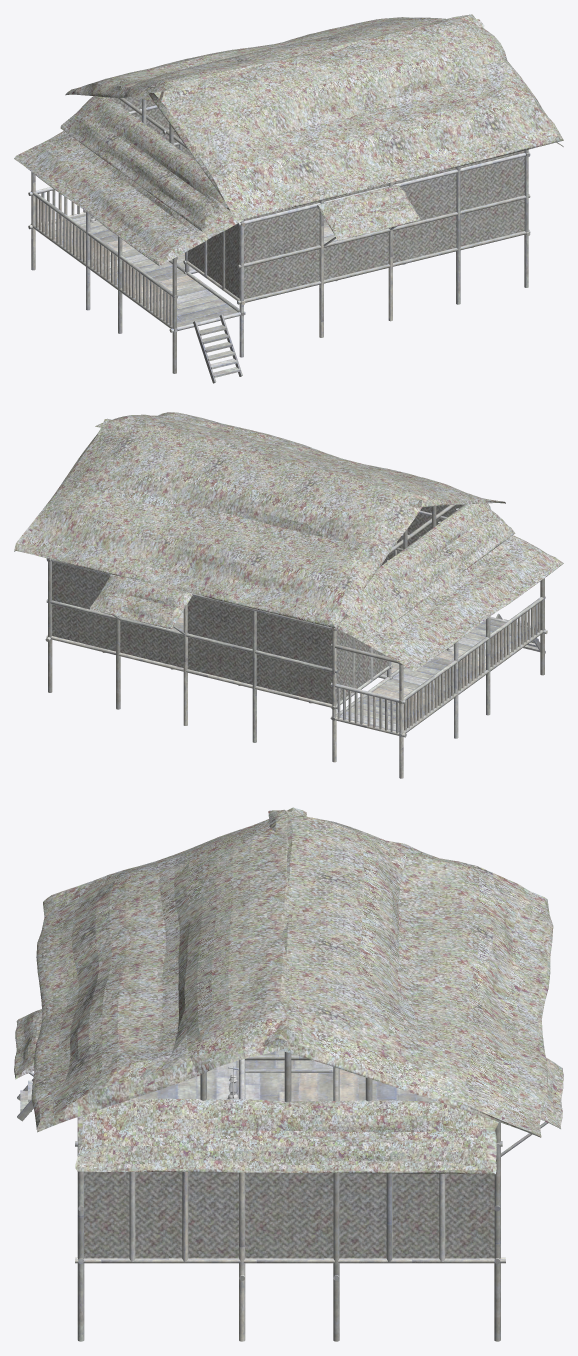
The picture shows the model from 3 angles, top to bottom: view 1: azimuth 30°, elevation 25°; view 2: azimuth 150°, elevation 25°; view 3: azimuth 270°, elevation 25°; orthographic projection. The views are drawn at different scales.
Parts seen in each view (by area): view 1: Meshpart6, Meshpart3, Meshpart2, Part82, Part81, Meshpart4, Part90, Part99, Part98, Meshpart7, Part2, Part1 (+21 smaller); view 2: Meshpart4, Meshpart3, Meshpart2, Part110, Part105, Meshpart6, Part16, Part15, Part90, Meshpart1, Part167, Part166 (+20 smaller); view 3: Meshpart4, Meshpart6, Part68, Part67, Meshpart5, Union3, Part95, Part39, Part152, Part151, Meshpart7, Part52 (+5 smaller).
Boxes of the visible parts, x1,y1,x2,y2 form: Meshpart6: [148, 14, 563, 220]; Meshpart3: [14, 131, 242, 266]; Meshpart2: [60, 96, 227, 231]; Part82: [244, 199, 524, 299]; Part81: [244, 199, 524, 299]; Meshpart4: [65, 17, 484, 102]; Part90: [38, 214, 237, 327]; Part99: [399, 157, 524, 225]; Part98: [400, 157, 524, 225]; Meshpart7: [317, 185, 420, 240]; Part2: [244, 207, 319, 263]; Part1: [244, 207, 319, 263]; Meshpart4: [14, 418, 428, 628]; Meshpart3: [336, 535, 563, 671]; Meshpart2: [346, 503, 515, 638]; Part110: [52, 604, 332, 704]; Part105: [52, 604, 332, 703]; Meshpart6: [95, 412, 505, 507]; Part16: [187, 596, 332, 668]; Part15: [187, 596, 332, 668]; Part90: [340, 619, 537, 731]; Meshpart1: [90, 574, 192, 629]; Part167: [52, 561, 109, 609]; Part166: [52, 561, 109, 609]; Meshpart4: [264, 809, 553, 1137]; Meshpart6: [31, 807, 306, 1132]; Part68: [84, 1171, 494, 1258]; Part67: [84, 1171, 494, 1258]; Meshpart5: [75, 1098, 498, 1174]; Union3: [129, 1172, 445, 1261]; Part95: [245, 1073, 333, 1101]; Part39: [75, 1257, 505, 1263]; Part152: [131, 1060, 238, 1099]; Part151: [339, 1069, 436, 1101]; Meshpart7: [14, 1009, 42, 1079]; Part52: [494, 1103, 500, 1341].
Size of the model in its own units: 35.85 by 18.49 by 28.31.
9 materials, 9 textured.
